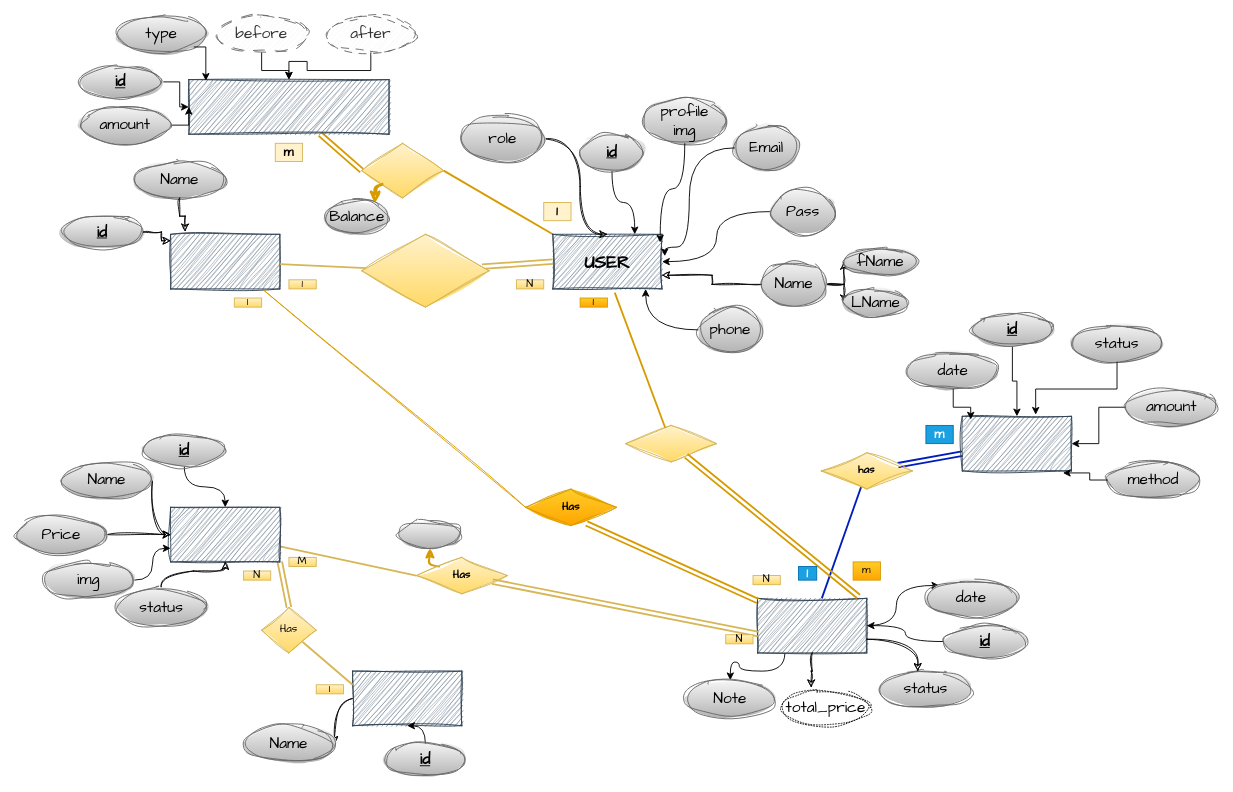
The diagram is 1233 pixels wide and 792 high, and some of its shapes have lost their labels. The shapes that lost their labels are listed below. From the top down, each one's centre as x and y in pixels, then its label:
At point 288,106: "Wallet_Transaction".
At point 402,170: "make".
At point 225,261: "Room".
At point 425,270: "Working inside".
At point 671,443: "Orderring".
At point 1016,443: "Payment".
At point 225,534: "Product".
At point 429,534: "quantiiy".
At point 812,625: "Order".
At point 407,698: "Category".
